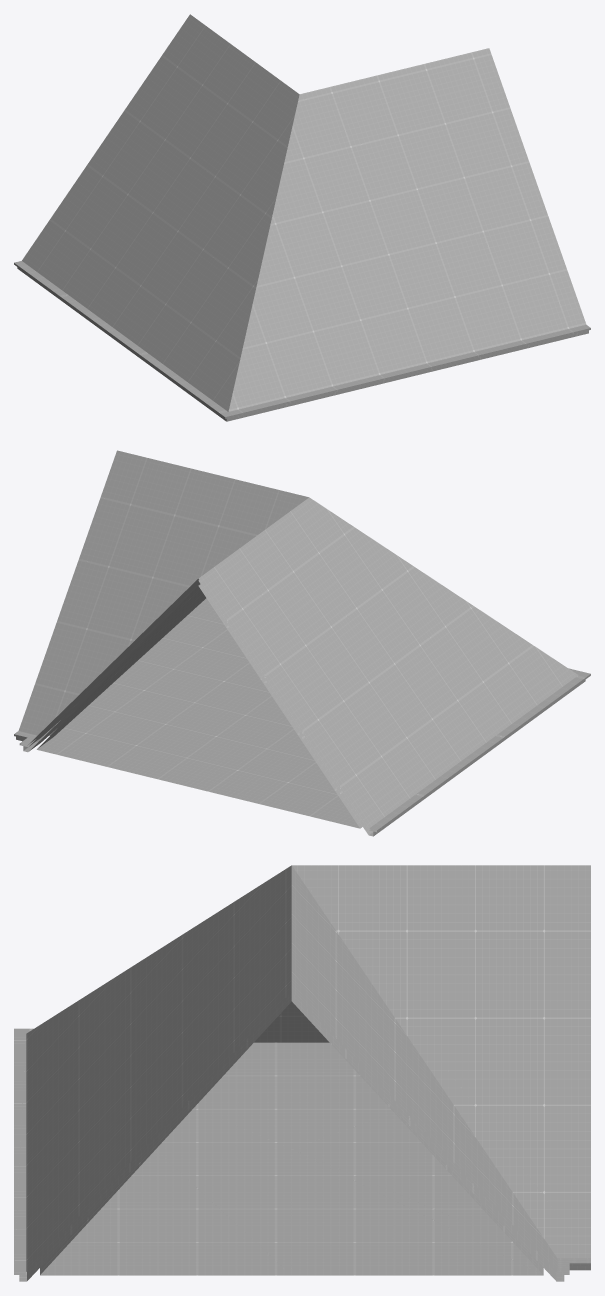
The model's file is HighRoof.fbx.
3 renders of one model, top to bottom at view 1: azimuth 30°, elevation 25°; view 2: azimuth 150°, elevation 25°; view 3: azimuth 270°, elevation 25°, orthographic. The views are drawn at different scales.
Visible parts, largest first — view 1: HighRoof; view 2: HighRoof; view 3: HighRoof.
Part boxes in pixels (x1,y1,x2,y2): HighRoof: (14, 14, 590, 421); HighRoof: (14, 450, 590, 836); HighRoof: (14, 865, 590, 1281).
Size of the model in its own units: 733 by 406 by 733.
